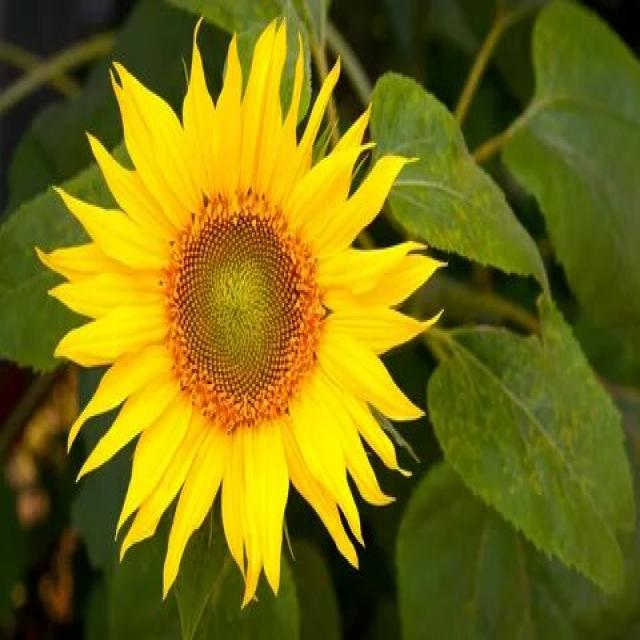sunflower: (40, 19, 441, 595)
